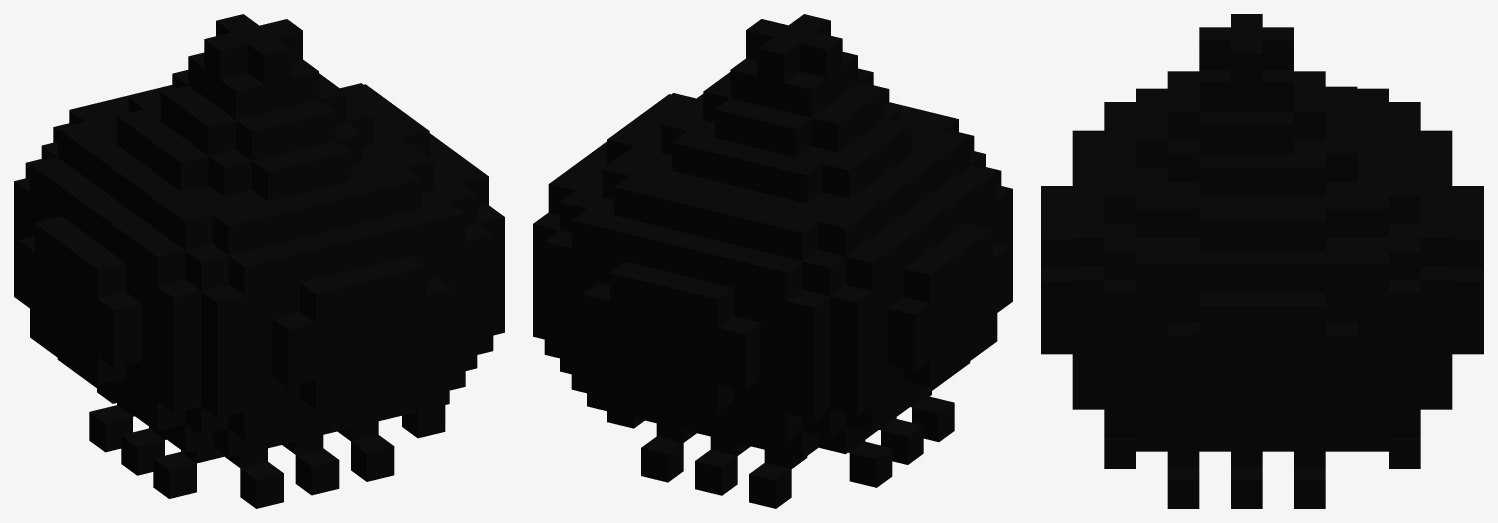
Rendered from Garlic.obj.
The picture shows the model from 3 angles, left to right: view 1: azimuth 30°, elevation 25°; view 2: azimuth 150°, elevation 25°; view 3: azimuth 270°, elevation 25°; orthographic projection. The views are drawn at different scales.
Visible parts, largest first — view 1: Garlic; view 2: Garlic; view 3: Garlic.
Boxes of the visible parts, x1=… form: Garlic: x1=14, y1=14, x2=504, y2=508; Garlic: x1=533, y1=14, x2=1012, y2=508; Garlic: x1=1041, y1=14, x2=1483, y2=508.
Bounding box in the file's own units: 1.4 × 1.4 × 1.4.
